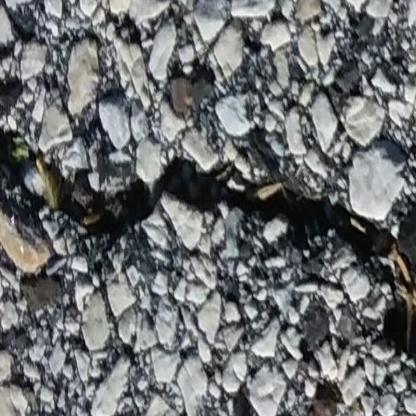Cracks: (0, 127, 416, 389)
